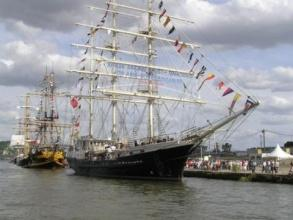fanchuan: (63, 1, 256, 175), (10, 69, 68, 169)
